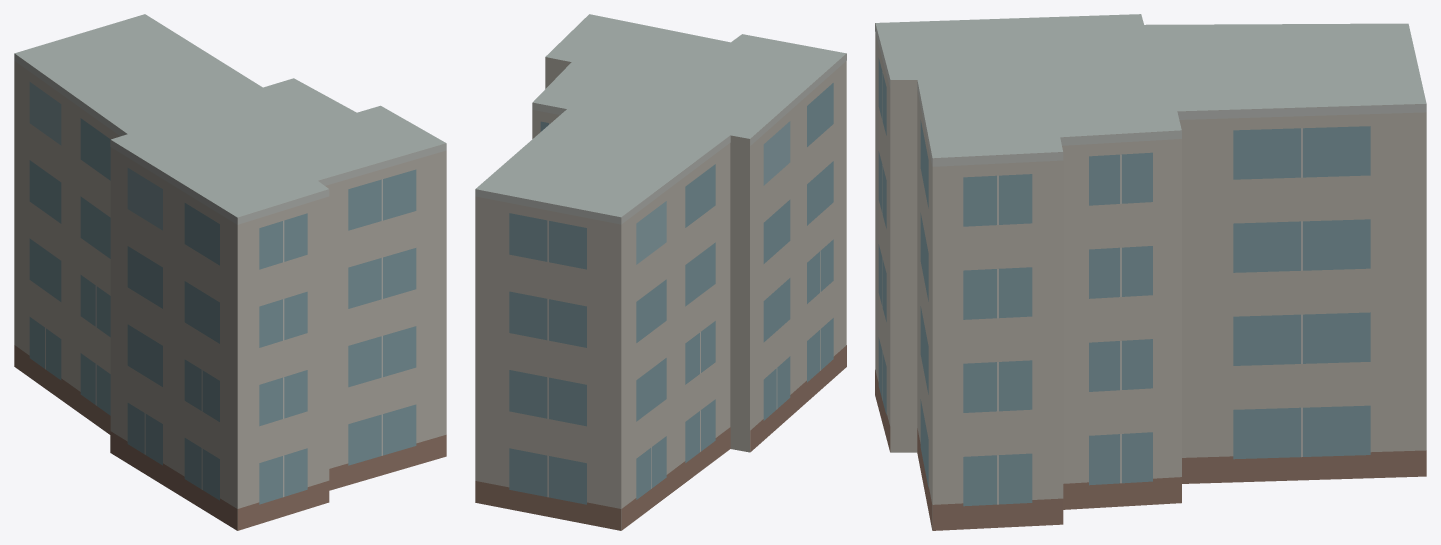
Rendered from survey-upis-32894709.glb.
3 views of the same model, side by side, from view 1: azimuth 30°, elevation 25°; view 2: azimuth 150°, elevation 25°; view 3: azimuth 270°, elevation 25° (orthographic). The views are drawn at different scales.
Visible parts, largest first — view 1: survey-upis-32894709.tmp; view 2: survey-upis-32894709.tmp; view 3: survey-upis-32894709.tmp.
Boxes of the visible parts, bbox=[...] form: survey-upis-32894709.tmp: bbox=[14, 14, 446, 530]; survey-upis-32894709.tmp: bbox=[475, 14, 846, 530]; survey-upis-32894709.tmp: bbox=[875, 14, 1426, 530].
Size of the model in its own units: 8.72 by 10.5 by 14.09.
